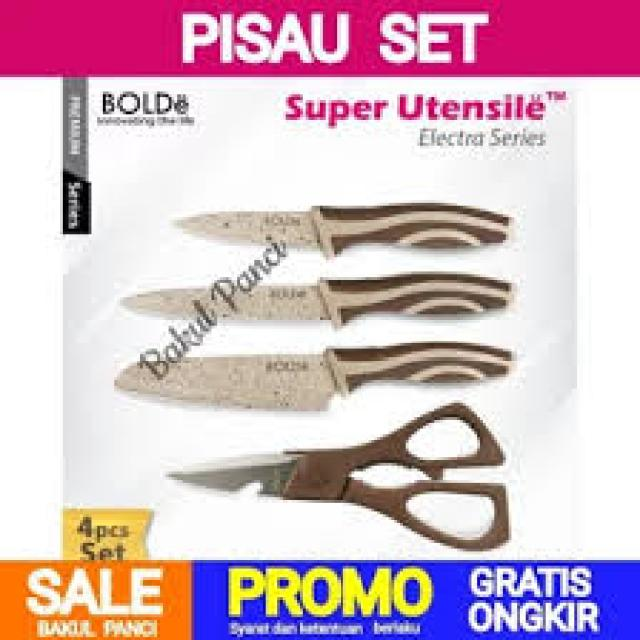Knife: (113, 337, 553, 453)
